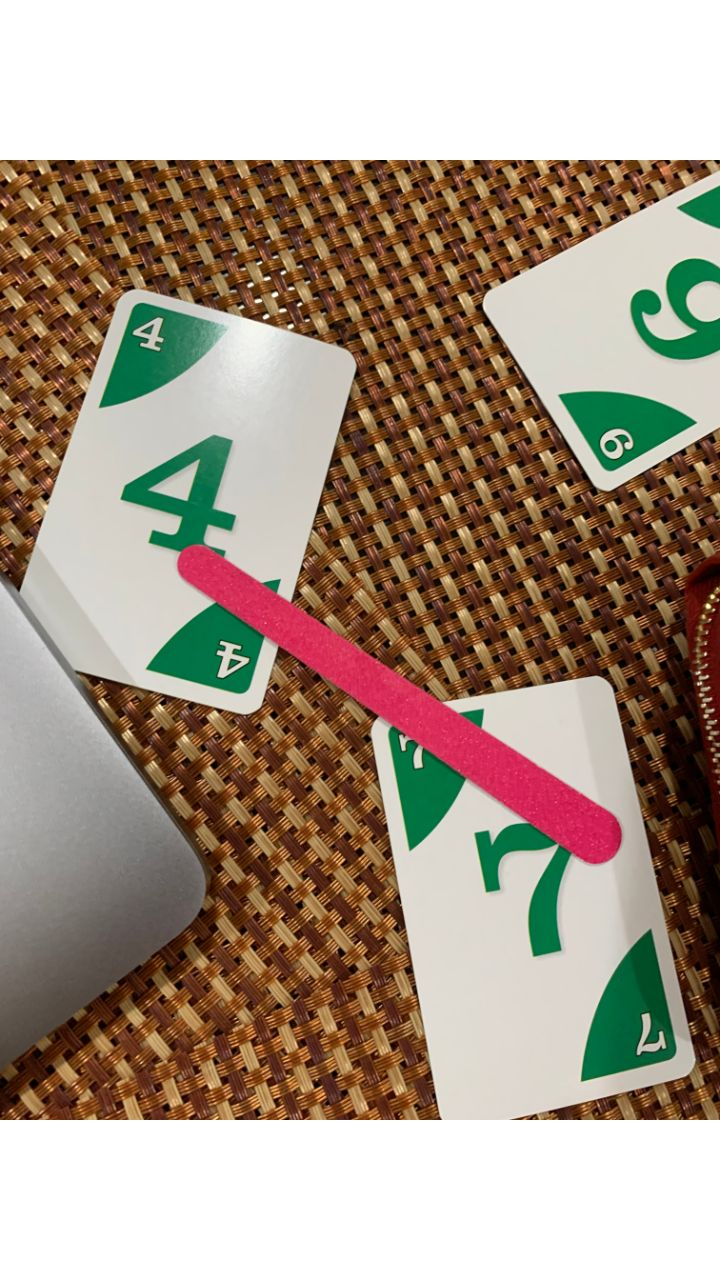four: (24, 284, 354, 721)
seven: (369, 671, 697, 1122)
